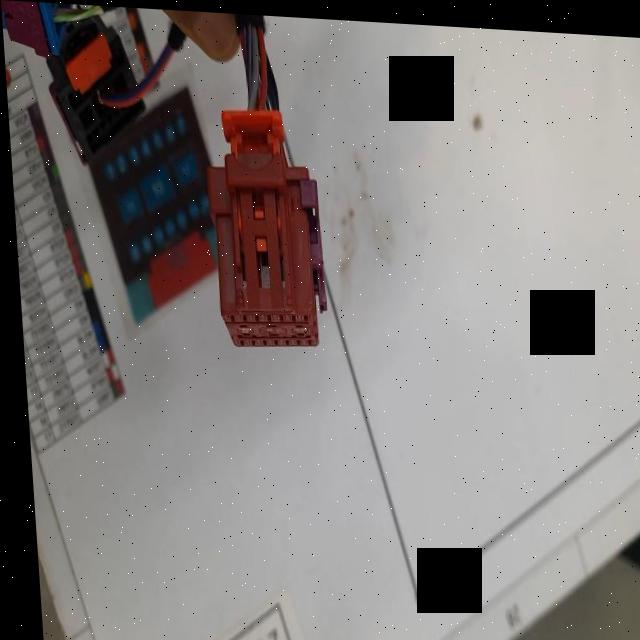connector: (190, 99, 331, 356)
